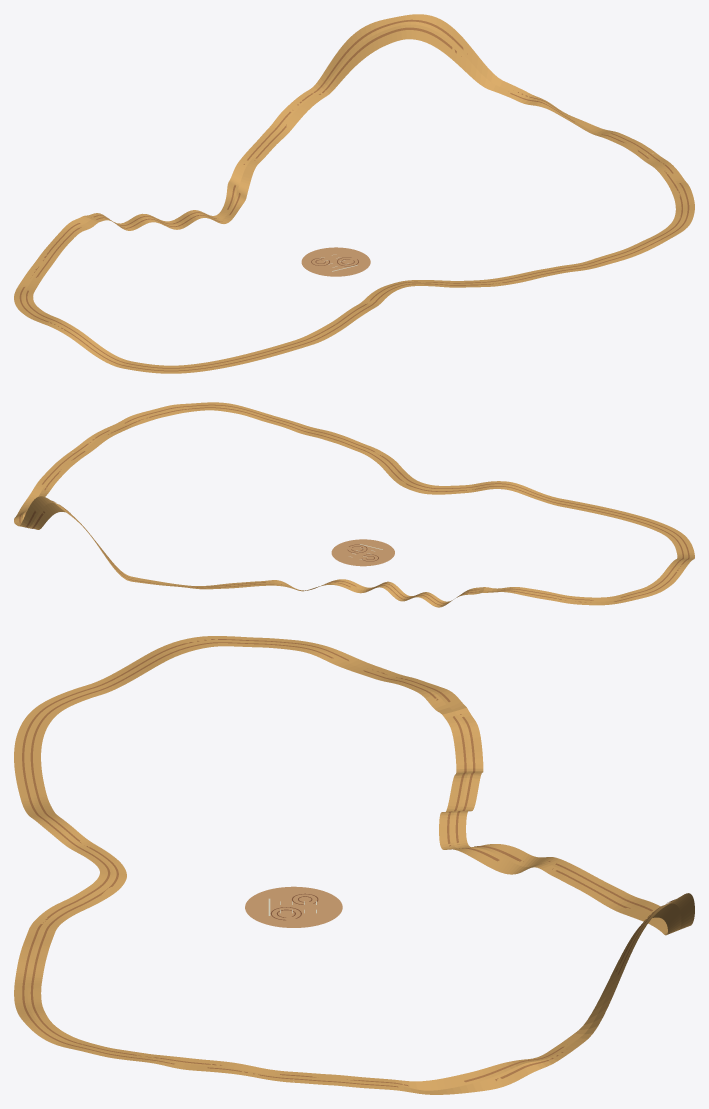
File: roads_desert.glb
The picture shows the model from 3 angles, top to bottom: view 1: azimuth 30°, elevation 25°; view 2: azimuth 150°, elevation 25°; view 3: azimuth 270°, elevation 25°; orthographic projection. The views are drawn at different scales.
Parts seen in each view (by area): view 1: desert_track, desert_track_rut, desert_pitpad; view 2: desert_track, desert_track_rut, desert_pitpad; view 3: desert_track, desert_track_rut, desert_pitpad.
Part boxes in pixels (<box>): desert_track: <box>14,14,694,373</box>; desert_track_rut: <box>19,19,689,371</box>; desert_pitpad: <box>301,247,370,276</box>; desert_track: <box>14,402,694,607</box>; desert_track_rut: <box>19,404,689,605</box>; desert_pitpad: <box>331,539,394,566</box>; desert_track: <box>14,636,694,1094</box>; desert_track_rut: <box>22,639,675,1087</box>; desert_pitpad: <box>245,886,342,927</box>.
Size of the model in its own units: 279 by 42.02 by 181.
